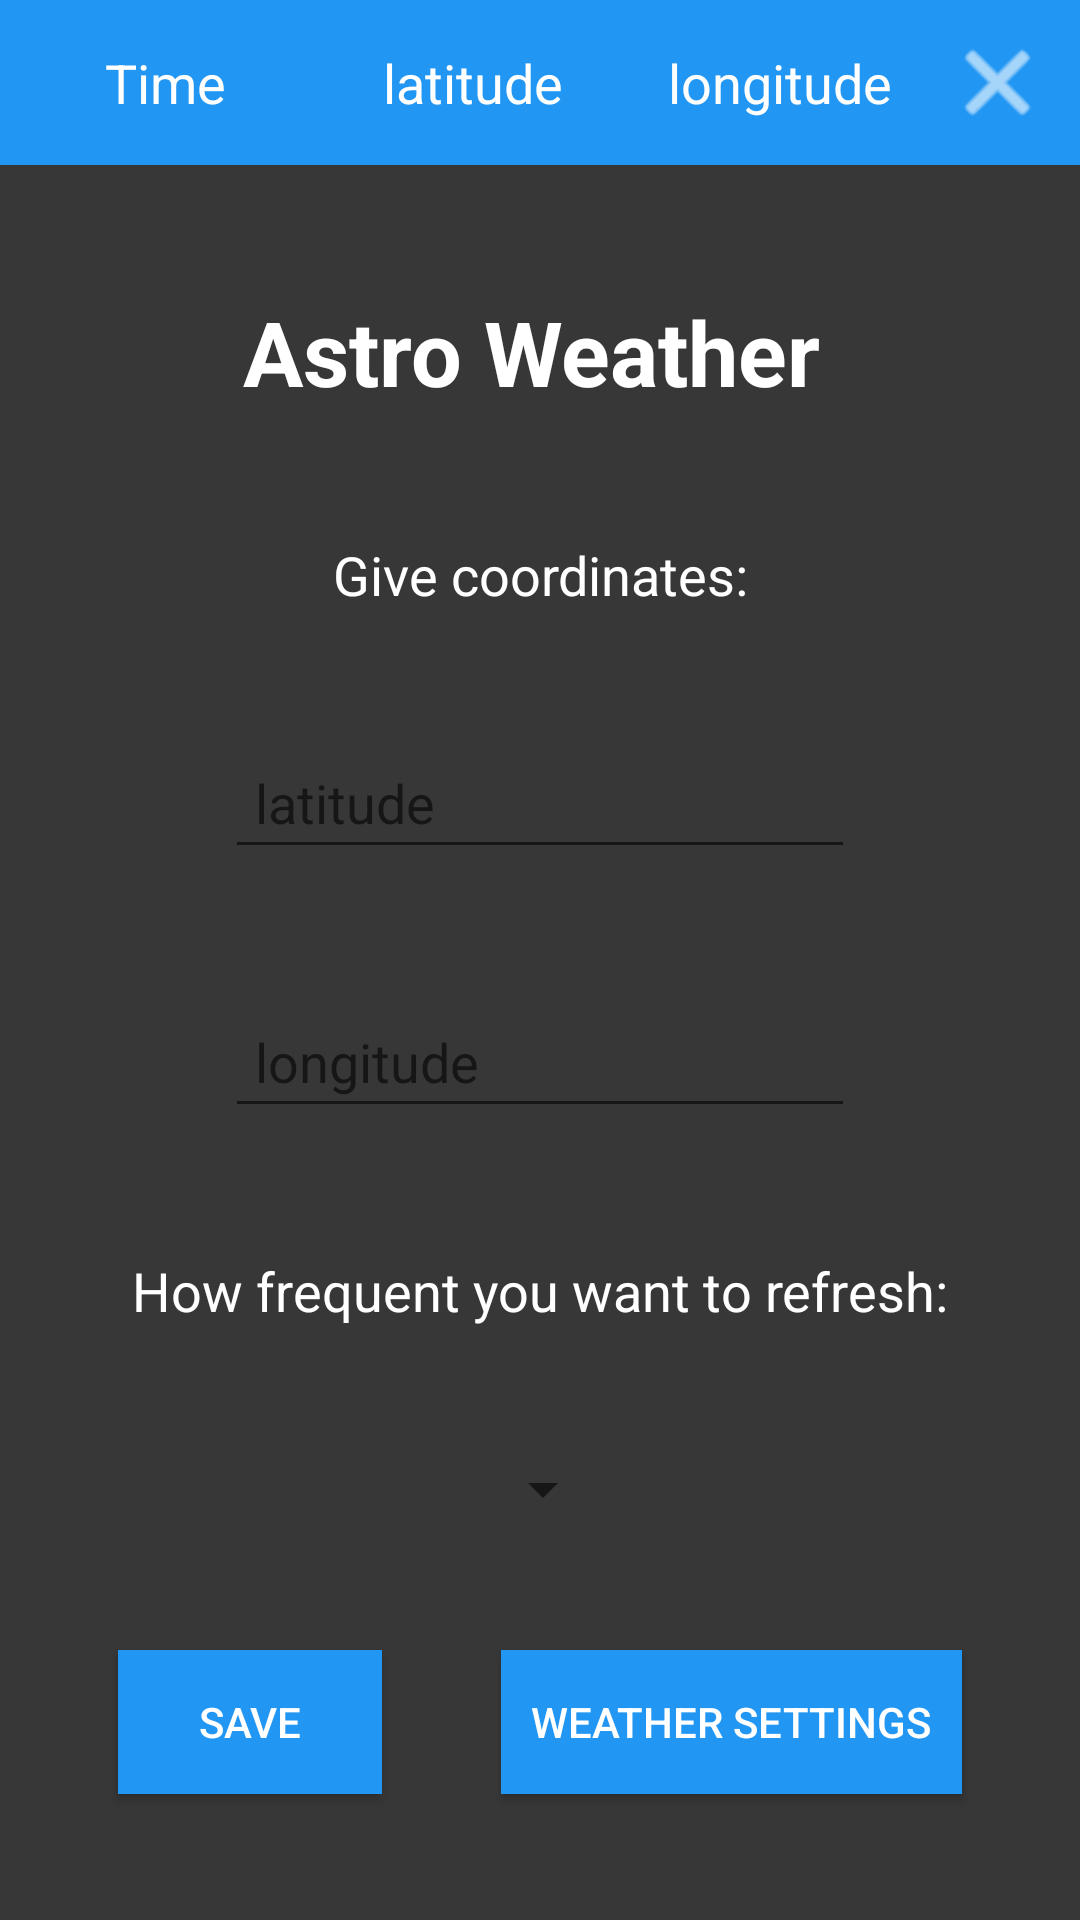

Named icons in this screenshot (1080*1920) and their centers, (x=x, y=y):
close clear cancel: (x=997, y=82)
